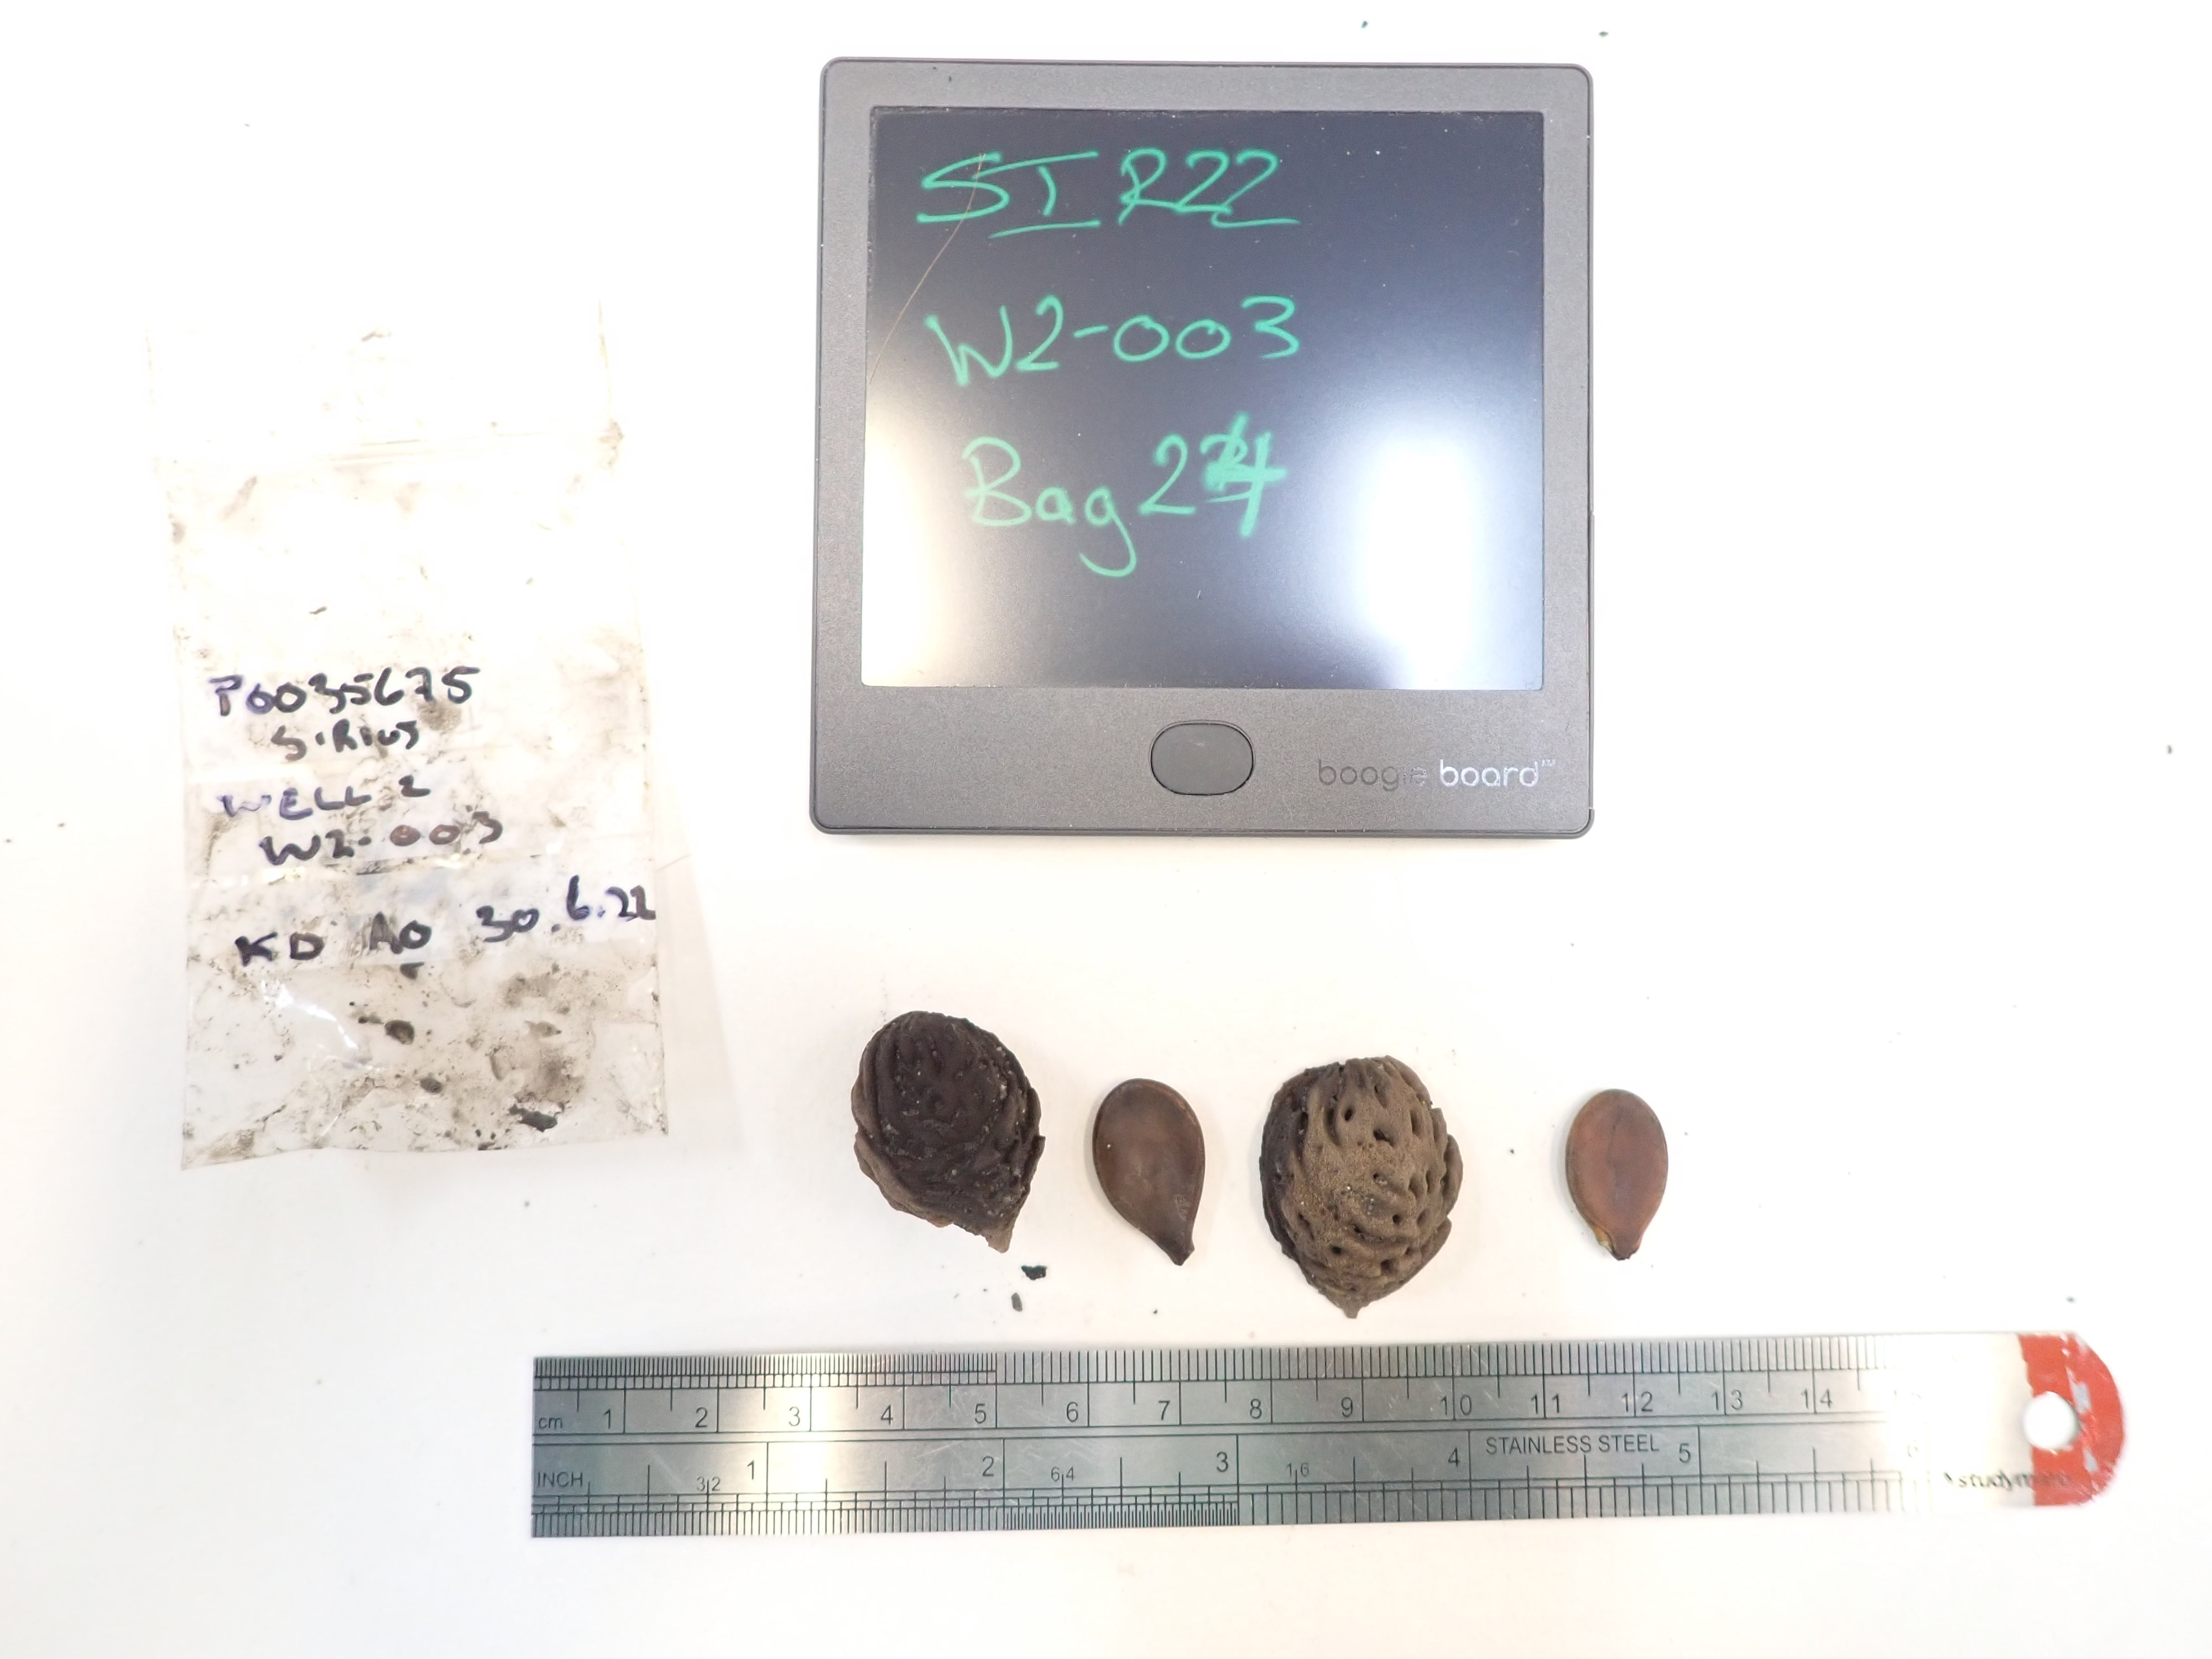Counted_Objects: (822, 985, 1062, 1263), (1249, 1054, 1468, 1312), (1087, 1058, 1224, 1263), (1545, 1066, 1686, 1267)
Not_Counted_Objects: (798, 35, 1620, 857), (99, 244, 705, 1185), (502, 1323, 2139, 1542)
